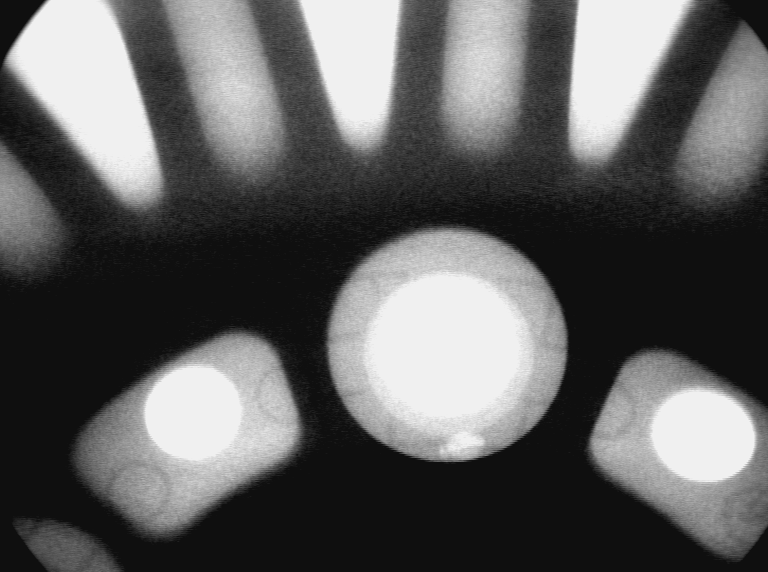defect: (441, 429, 489, 467)
